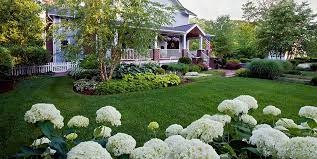grass: (197, 75, 316, 113), (77, 86, 195, 123), (6, 77, 74, 106)
